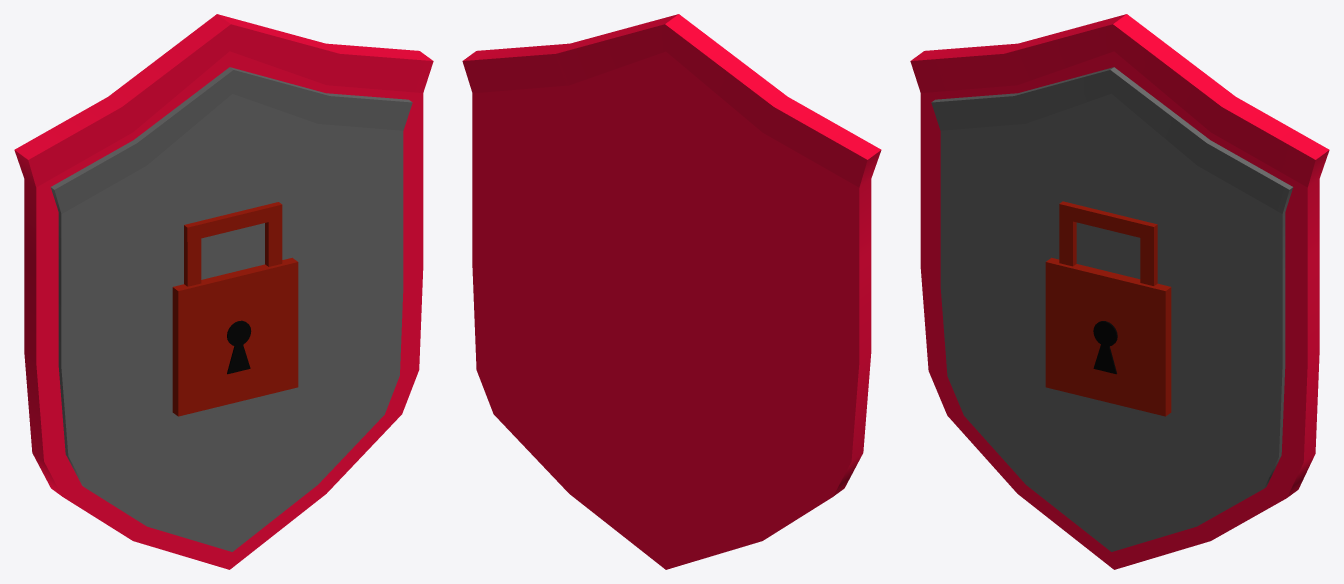
Rendered from antivirus_shield_system_assault.fbx.
3 views of the same model, side by side, from view 1: azimuth 30°, elevation 25°; view 2: azimuth 150°, elevation 25°; view 3: azimuth 330°, elevation 25° (orthographic).
Visible parts, largest first — view 1: pCube7; view 2: pCube7; view 3: pCube7.
Boxes of the visible parts, <box> form: pCube7: <box>14,14,433,569</box>; pCube7: <box>462,14,881,569</box>; pCube7: <box>910,14,1329,569</box>.
Bounding box in the file's own units: 7.76 × 10 × 0.7364.
